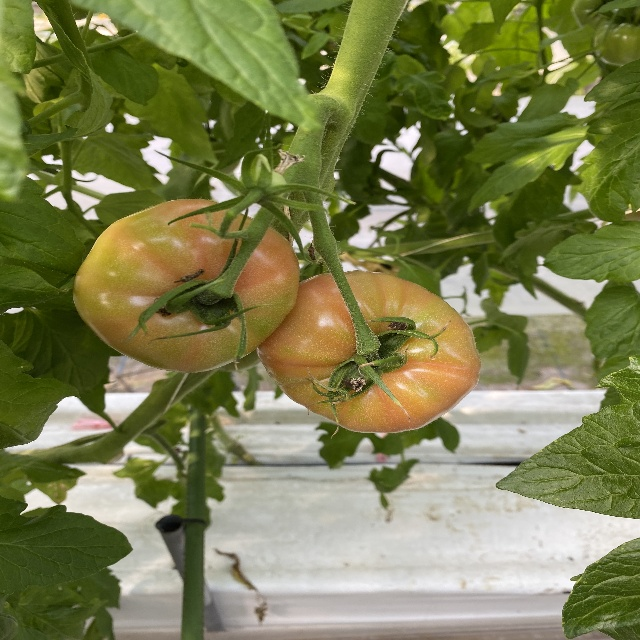b_half_ripened: (73, 199, 300, 373), (256, 271, 482, 433)
